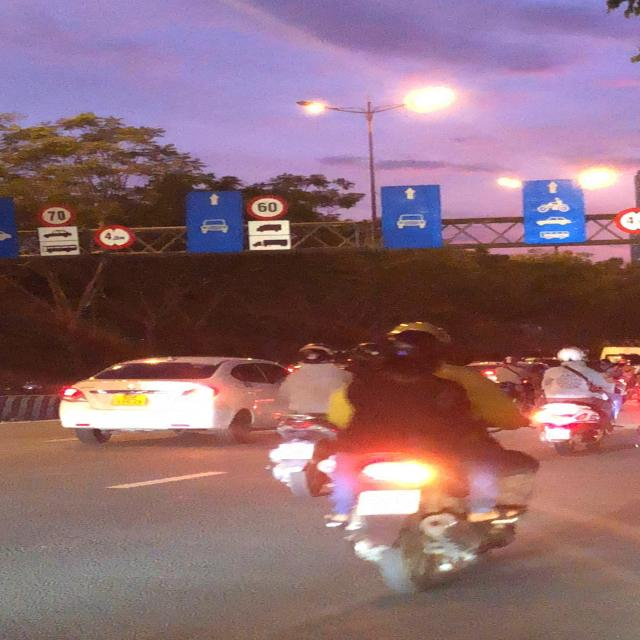Bien bao han che chieu cao: (91, 224, 135, 252)
Bien bao toc do toi da cho phep: (242, 192, 292, 221), (34, 202, 79, 228)
